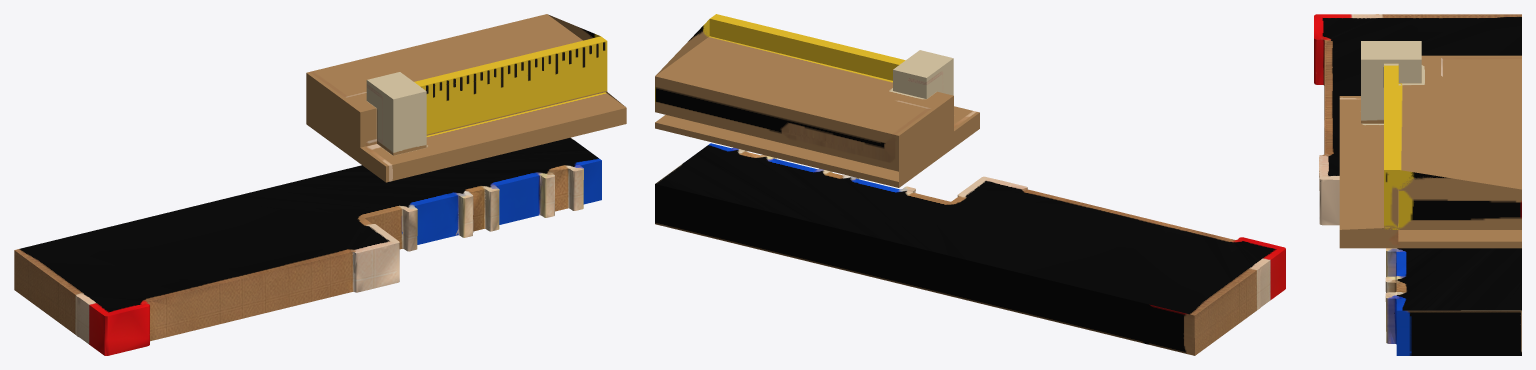
The model's file is 9-roof-front-left.fbx.
3 views of the same model, side by side, from view 1: azimuth 30°, elevation 25°; view 2: azimuth 150°, elevation 25°; view 3: azimuth 270°, elevation 25° (orthographic). The views are drawn at different scales.
Parts seen in each view (by area): view 1: roof-front-left; view 2: roof-front-left; view 3: roof-front-left.
Part boxes in pixels (<box>): roof-front-left: <box>14,14,626,355</box>; roof-front-left: <box>655,14,1285,355</box>; roof-front-left: <box>1314,14,1521,355</box>.
Bounding box in the file's own units: 10406 × 3113 × 3082.
Materials: 1 (1 with a texture image).
